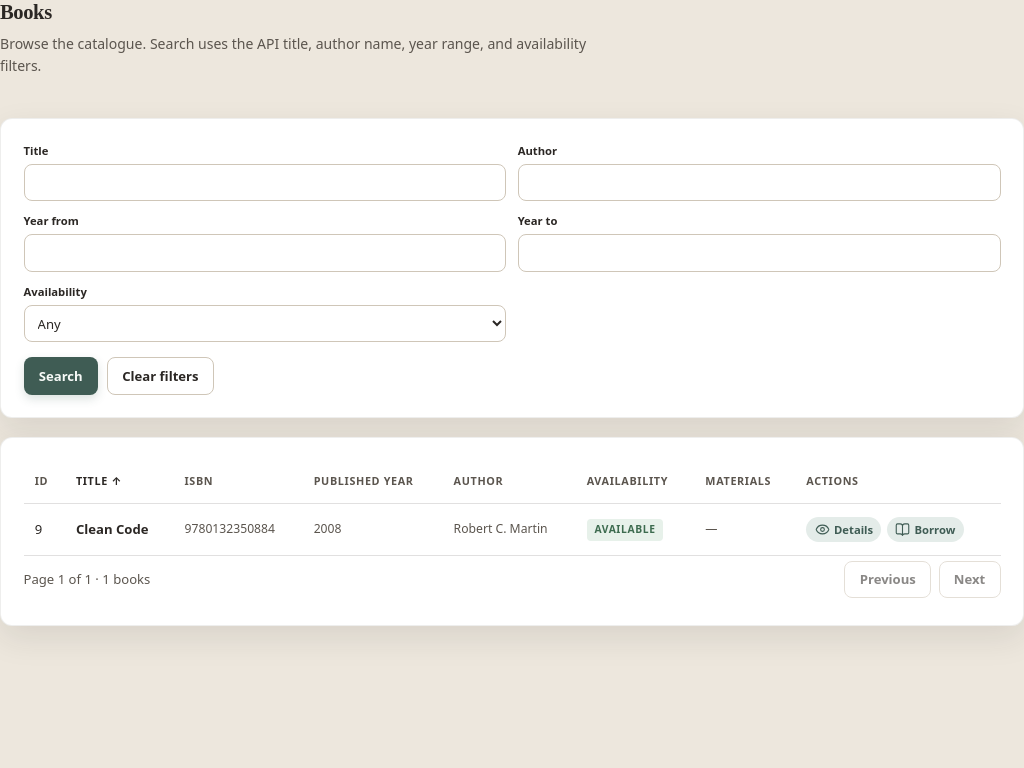
Test case: BooksPage borrow flow › lets a USER borrow an available book without loading members or seeing catalogue management actions
Expected: the text "Available" is shown, left=587, top=519, right=663, bottom=541
Click the button "Borrow". click: (925, 530)
box: left=887, top=517, right=964, bottom=542
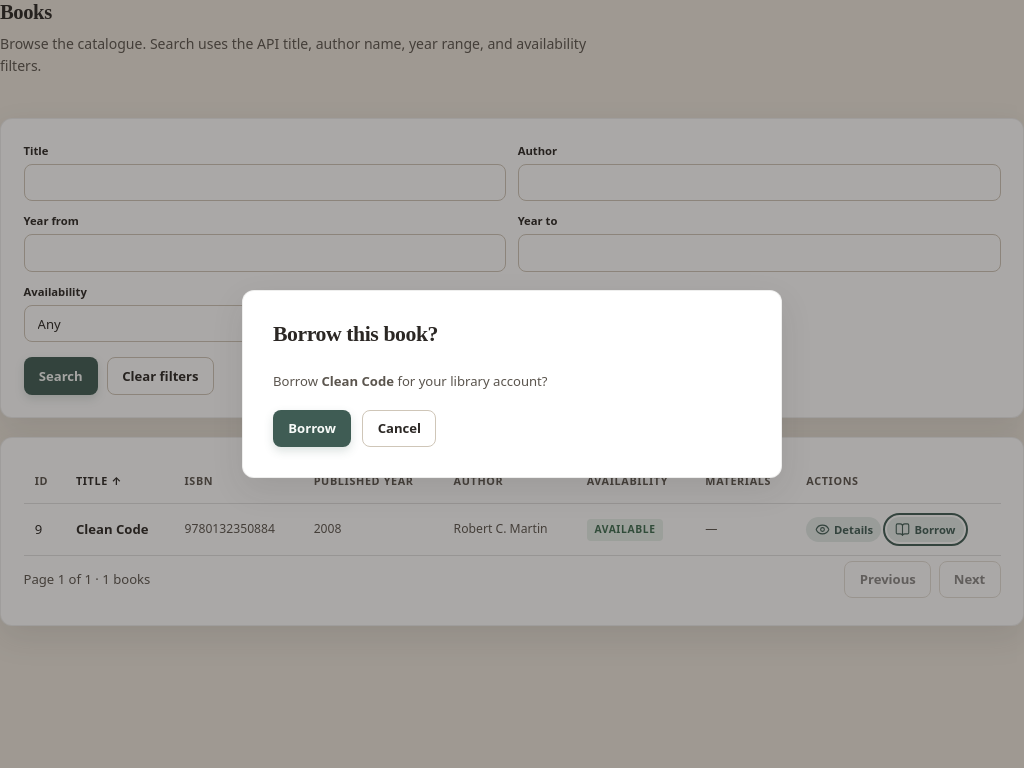
Now the heading "Borrow this book?" is shown, box left=273, top=322, right=438, bottom=346
Now the text "Clean Code" is shown, box left=321, top=372, right=394, bottom=390
Click the button "Borrow". click: (312, 428)
box: left=273, top=410, right=351, bottom=447
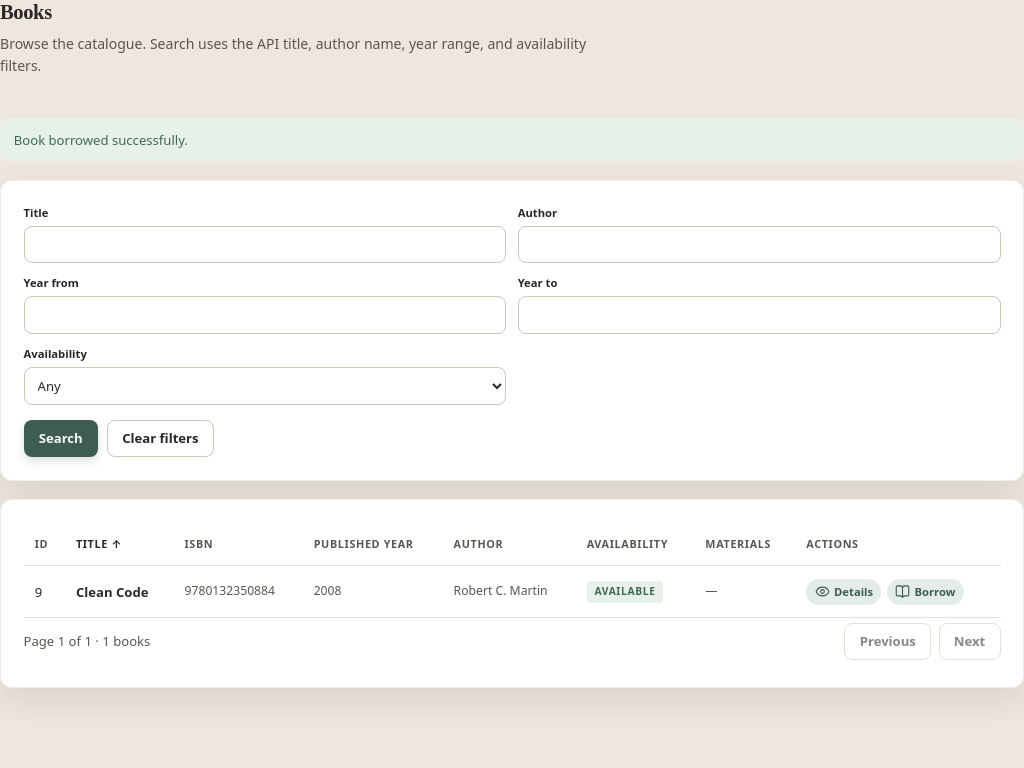
Now the text "Book borrowed successfully." is shown, box left=0, top=118, right=1023, bottom=161
